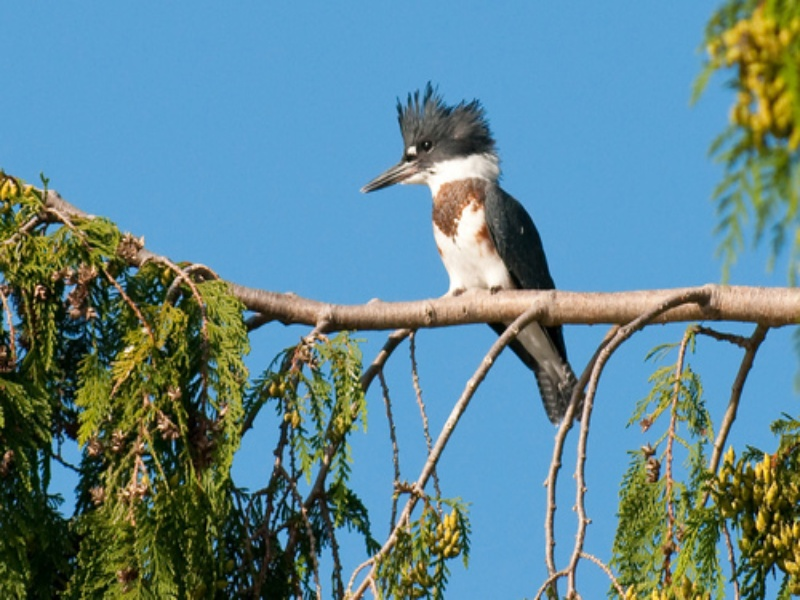kingfisher: (355, 83, 600, 438)
